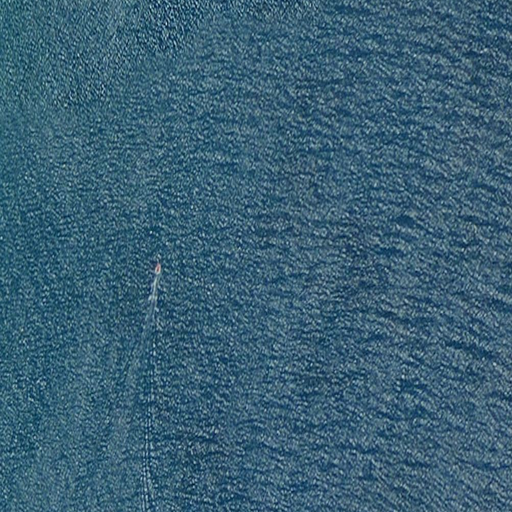ship: (152, 263, 162, 276)
